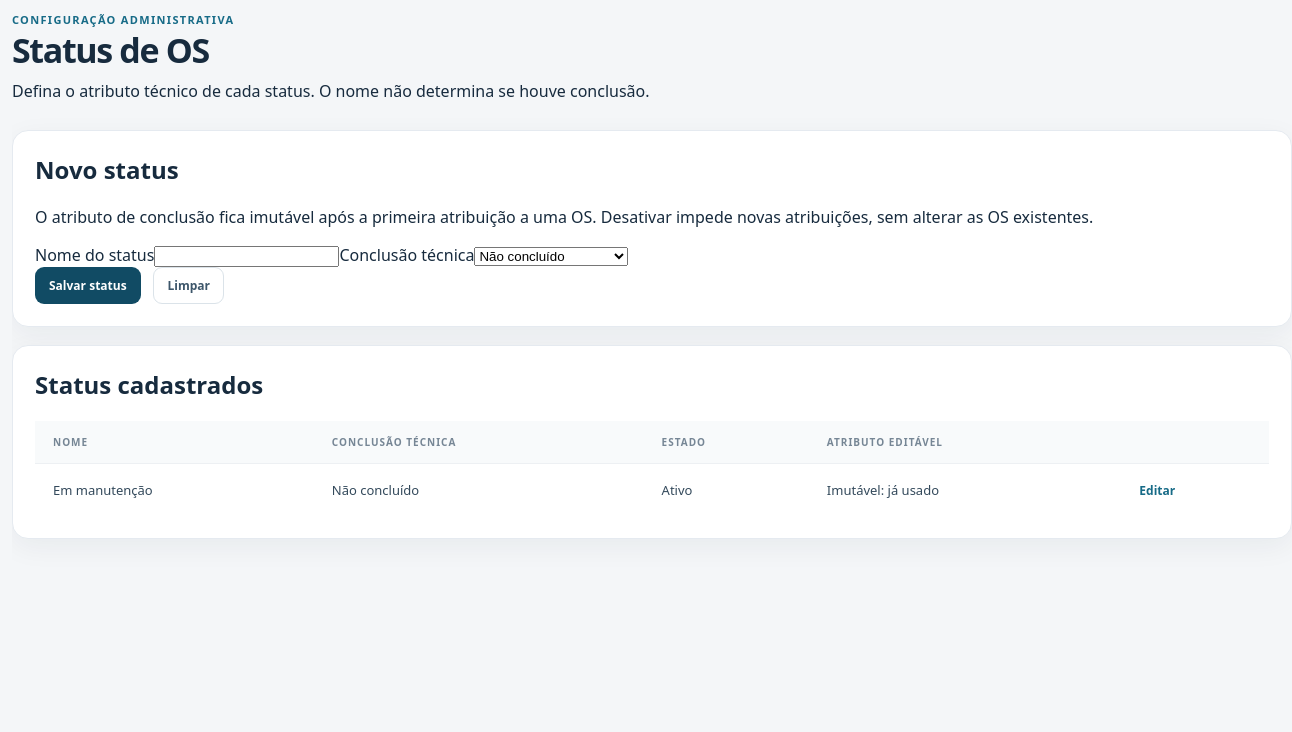
Test: ServiceOrderStatusesPage › impede editar atributo após uso e permite desativar o status
Click the button "Editar" at coordinates (1157, 490), box [1139, 482, 1175, 499]
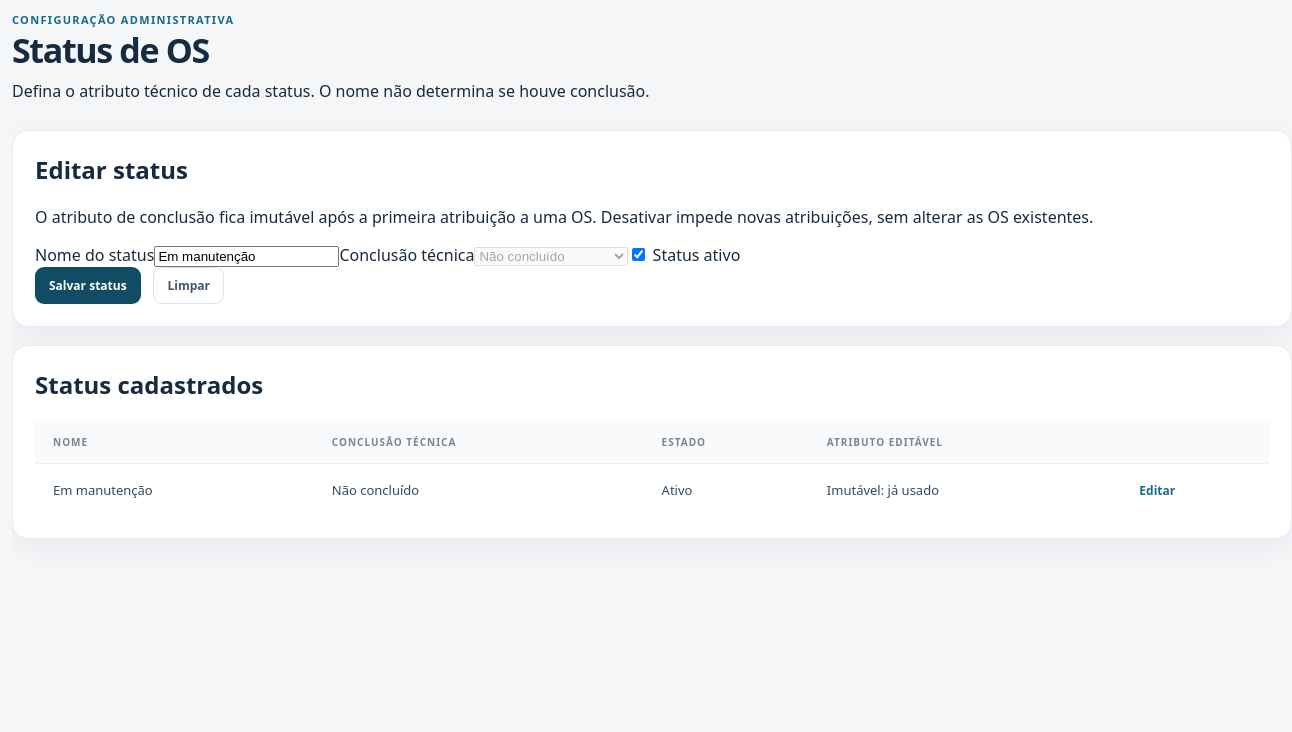
Result: the dropdown labelled "Conclusão técnica" is disabled at [474, 247, 628, 266]
Click the checkbox labelled "Status ativo" at coordinates (639, 254), box [632, 248, 645, 261]
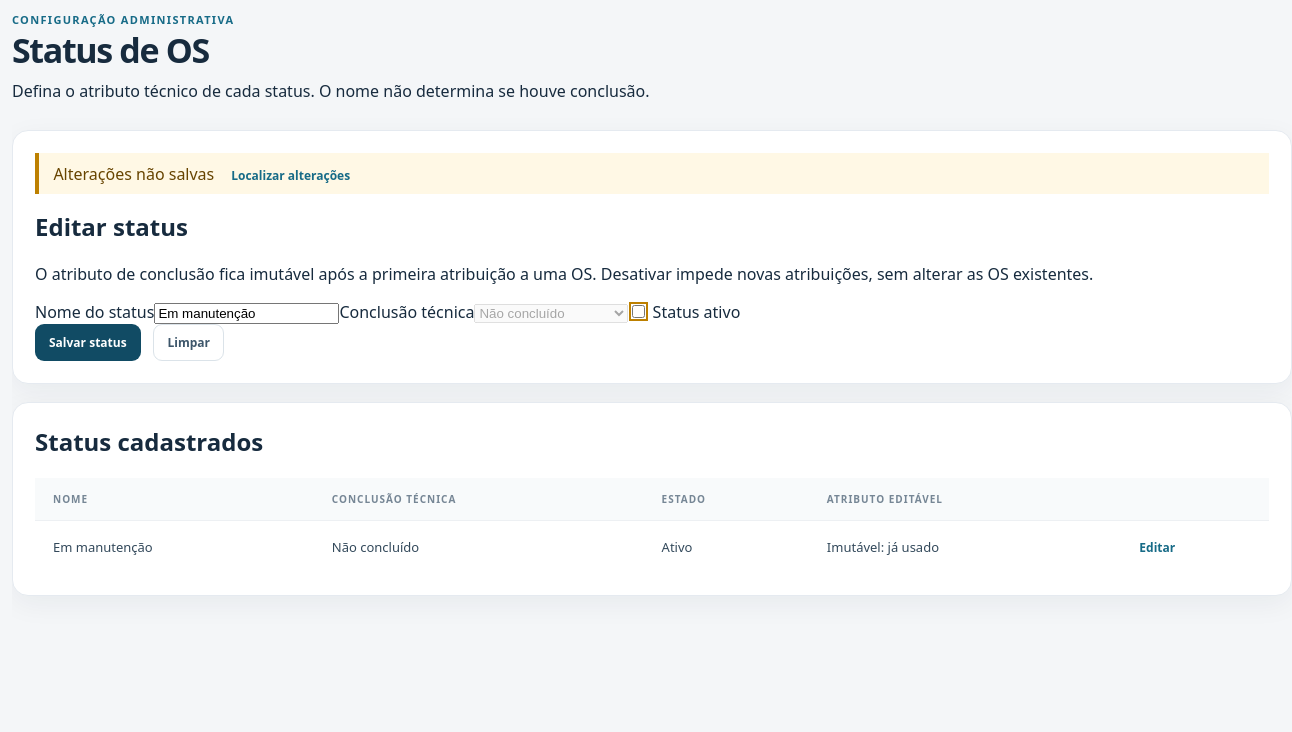
Click the button "Salvar status" at coordinates (88, 343), box [35, 324, 141, 361]
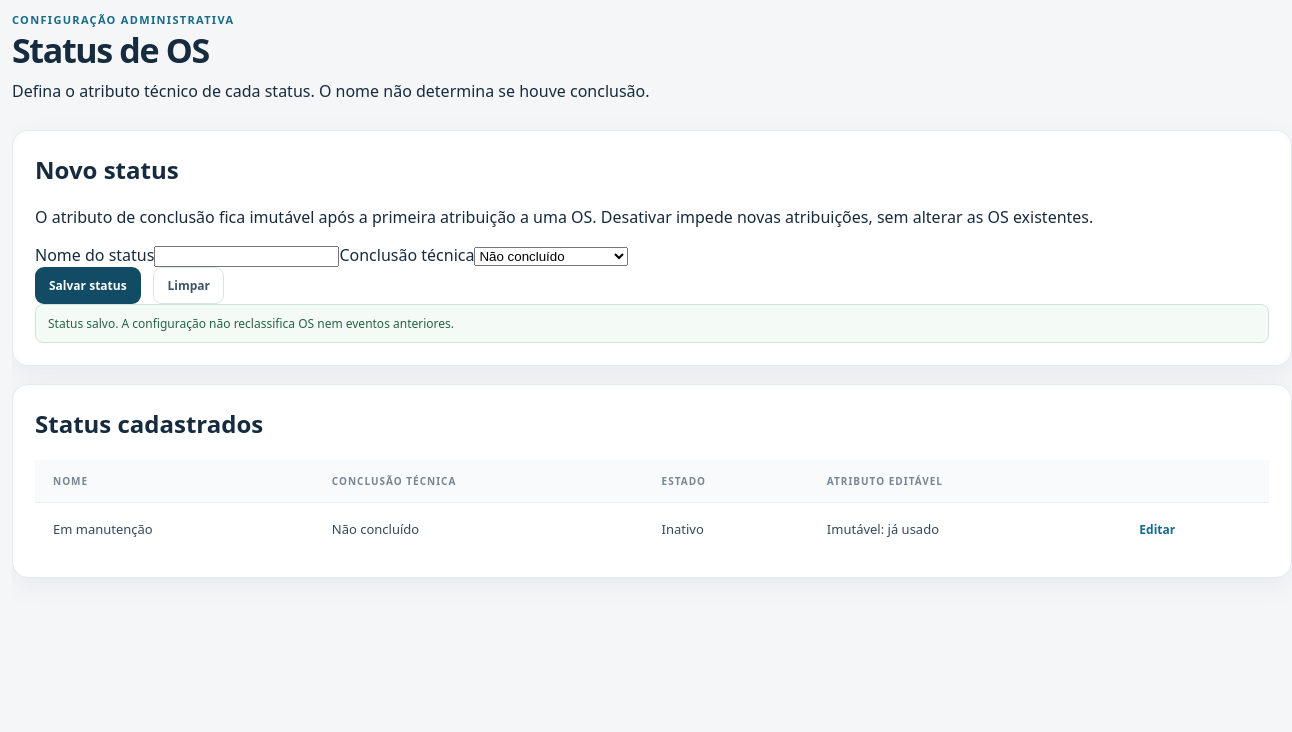
Result: the text "Inativo" is shown at [644, 502, 809, 555]
